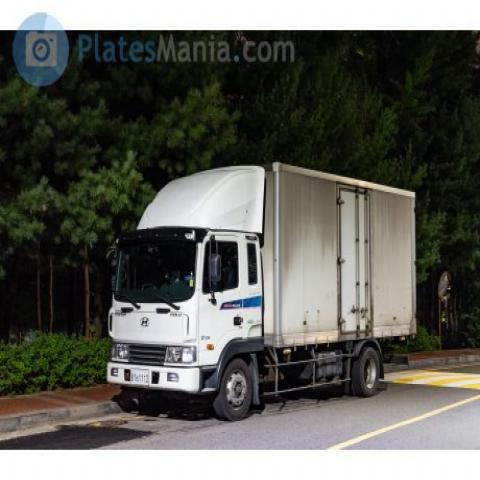LP: (126, 359, 159, 398)
